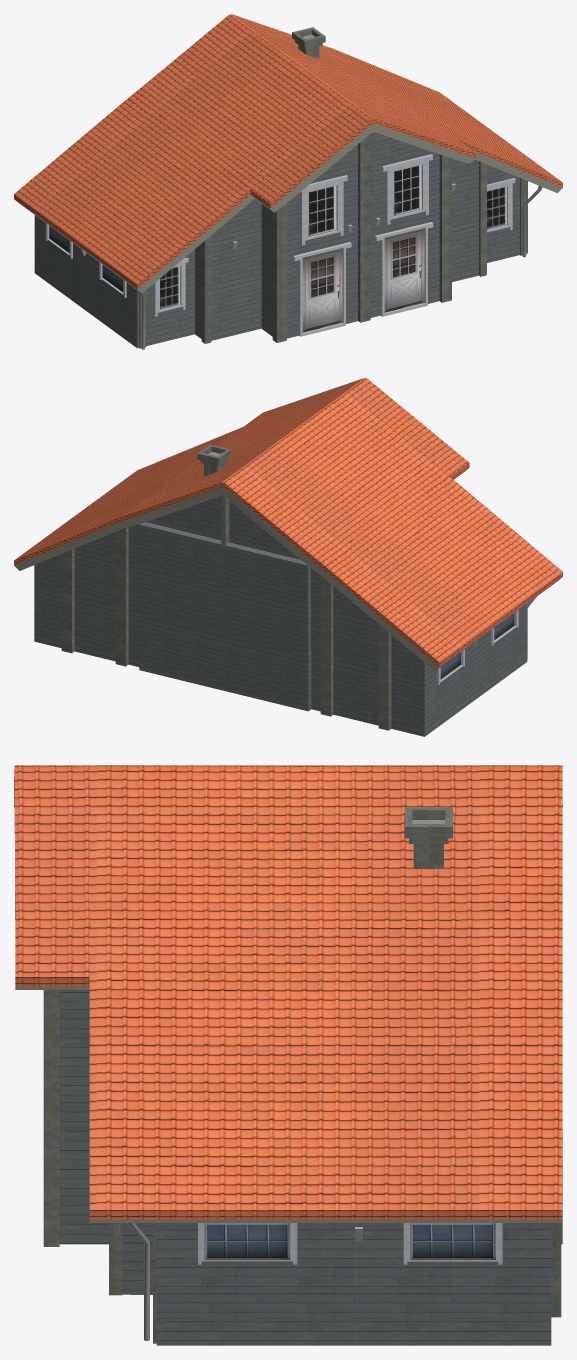
Rendered from House.FBX.
3 renders of one model, top to bottom at view 1: azimuth 30°, elevation 25°; view 2: azimuth 150°, elevation 25°; view 3: azimuth 270°, elevation 25°, orthographic. The views are drawn at different scales.
Visible parts, largest first — view 1: House; view 2: House; view 3: House.
Part boxes in pixels (left/top/right/bottom): House: left=14, top=14, right=562, bottom=349; House: left=14, top=378, right=562, bottom=736; House: left=14, top=765, right=562, bottom=1345.
Bounding box in the file's own units: 136 × 63.6 × 79.29.
